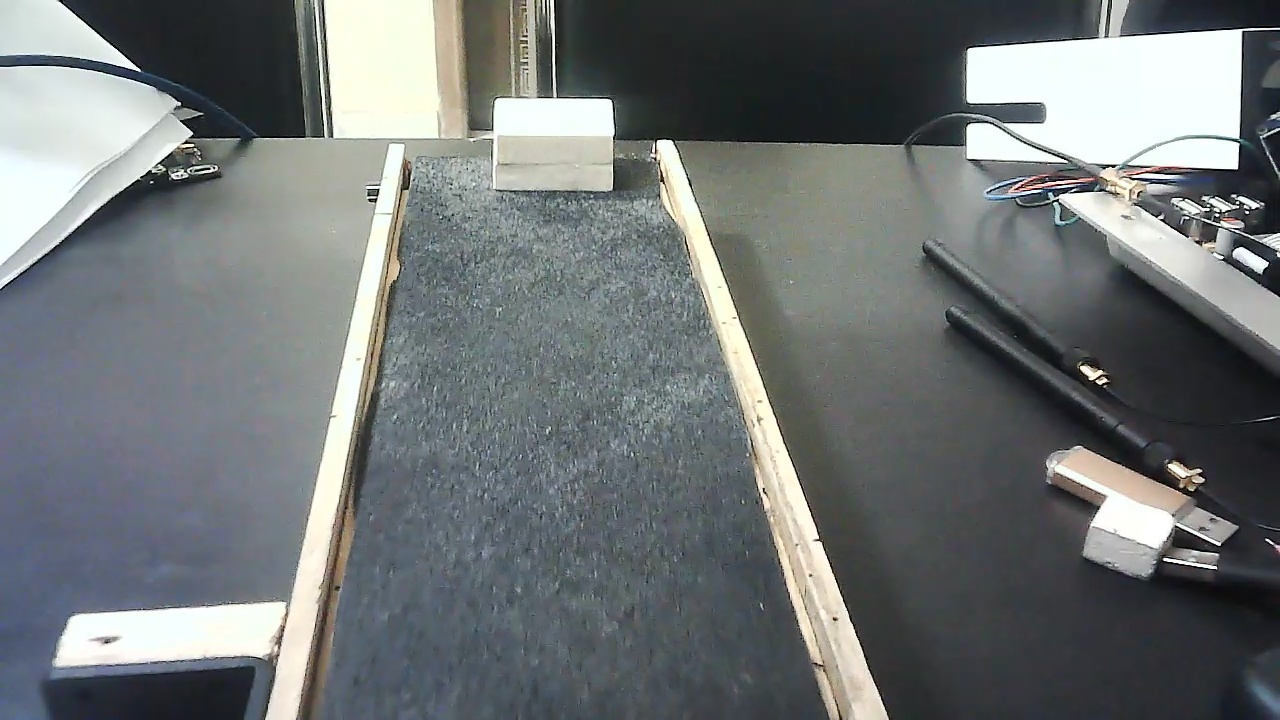BIG: (491, 84, 615, 208)
